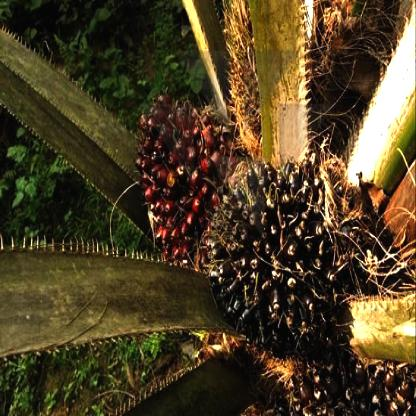1: (132, 88, 235, 264)
palm-oil: (206, 161, 382, 351), (246, 354, 415, 415)
